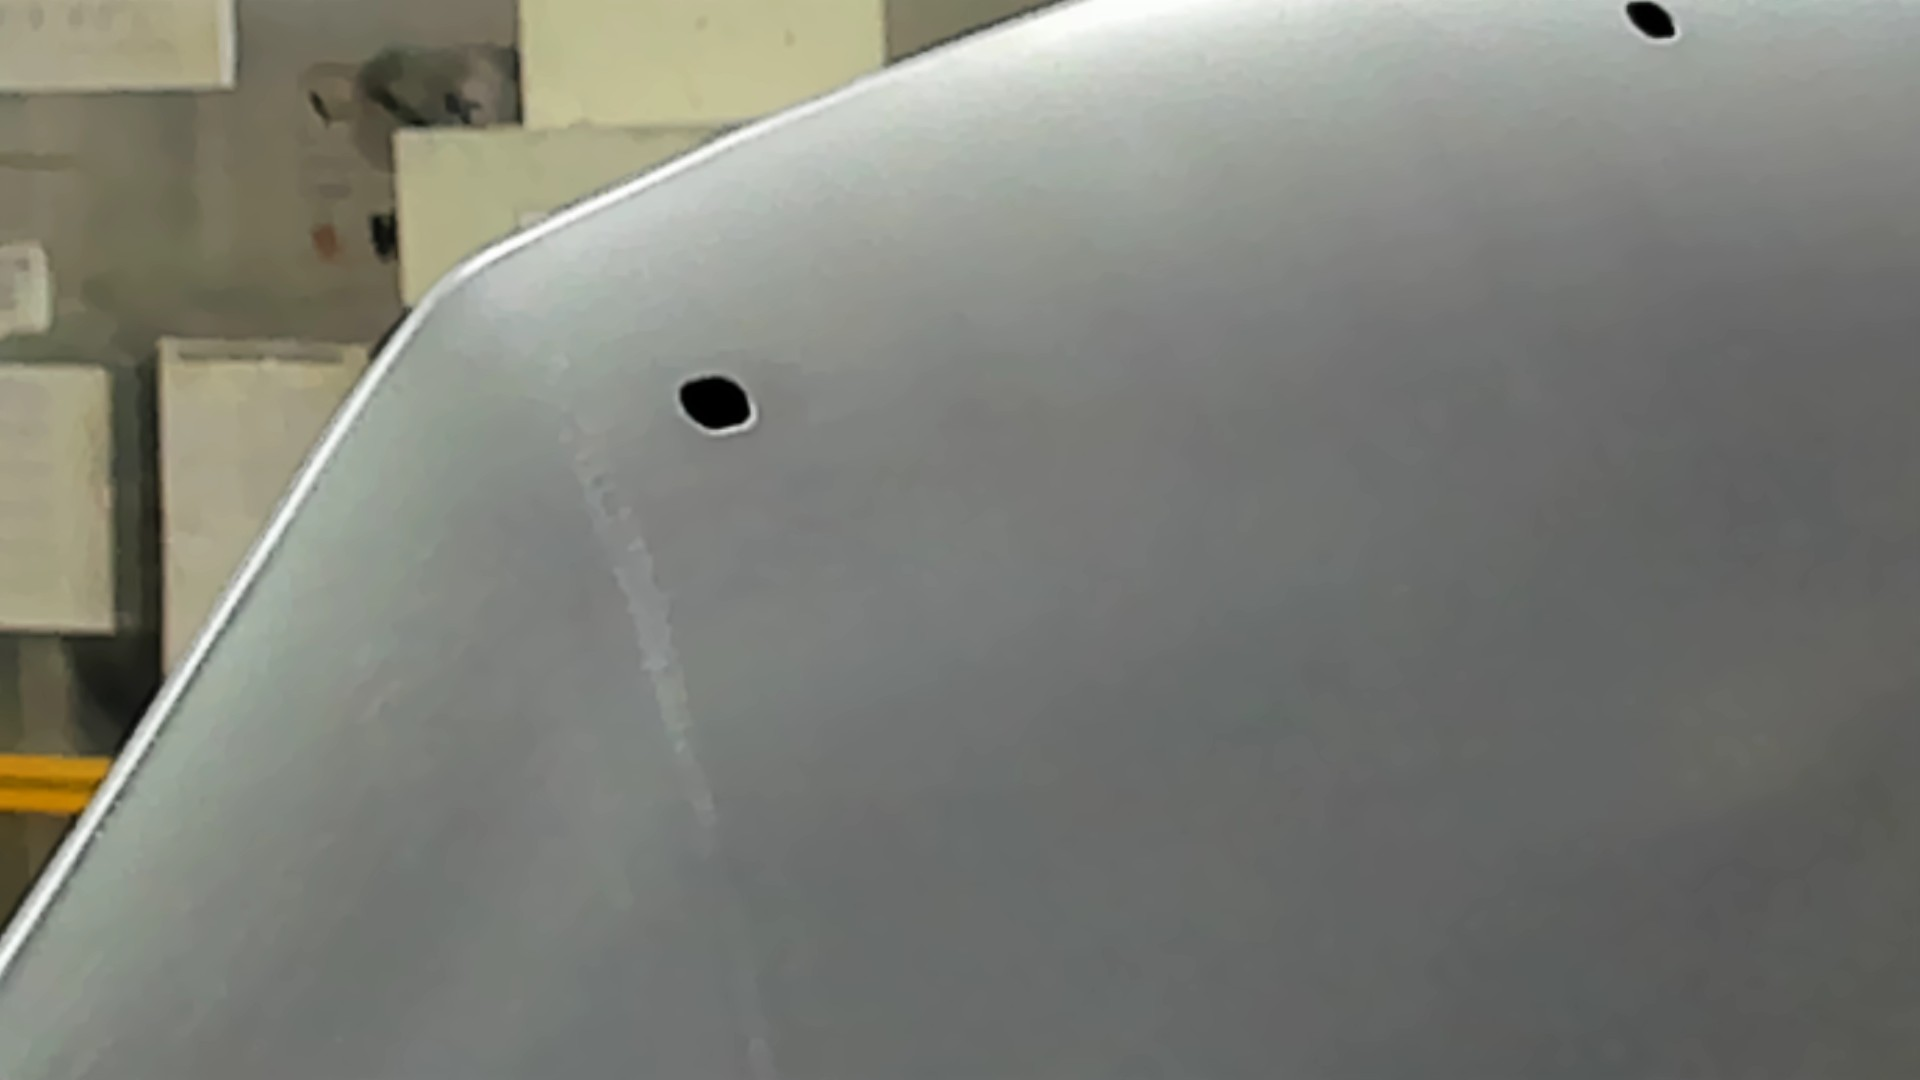amorfo: (669, 371, 769, 442), (1615, 1, 1683, 50)
capo: (847, 138, 1920, 1080)
